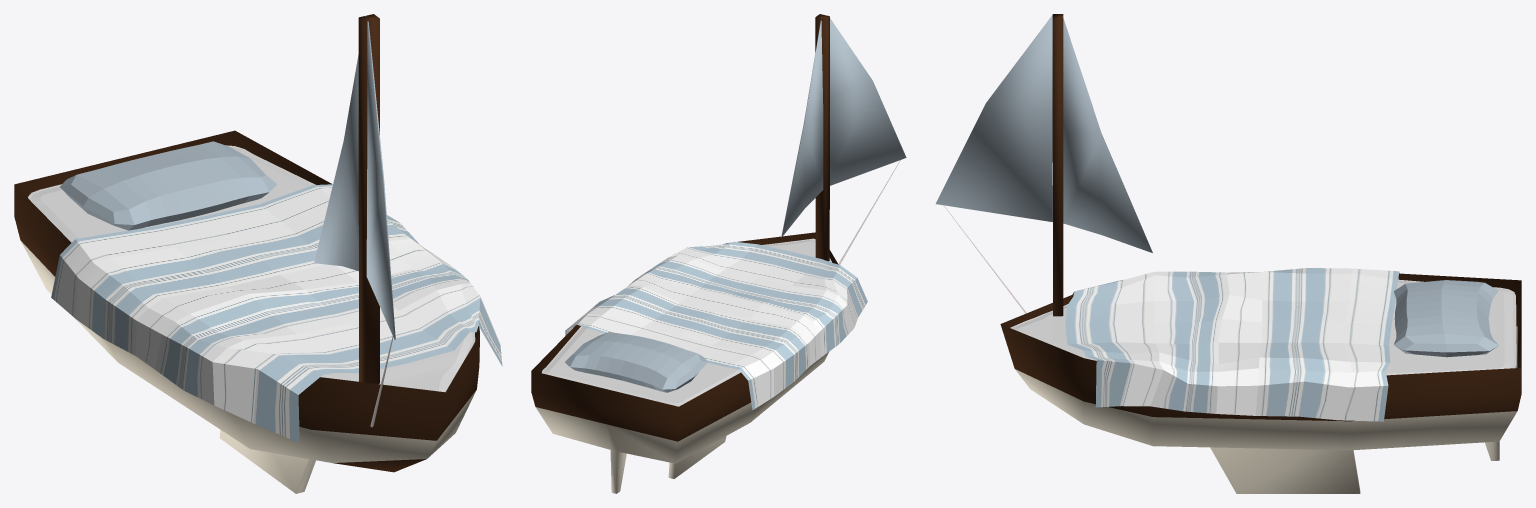
File: krevet_brod.fbx
The picture shows the model from 3 angles, left to right: view 1: azimuth 30°, elevation 25°; view 2: azimuth 150°, elevation 25°; view 3: azimuth 270°, elevation 25°; orthographic projection. The views are drawn at different scales.
Parts seen in each view (by area): view 1: Object001, boat-sail, Object002, boat-sail.001, bed01_two_old_beds.005; view 2: Object001, boat-sail, boat-sail.001, Object002, bed01_two_old_beds.005; view 3: Object001, boat-sail, boat-sail.001, Object002, bed01_two_old_beds.005.
Boxes of the visible parts, x1=… form: Object001: x1=51, y1=184, x2=502, y2=442; boat-sail: x1=14, y1=130, x2=479, y2=493; Object002: x1=28, y1=141, x2=475, y2=392; boat-sail.001: x1=314, y1=15, x2=395, y2=339; bed01_two_old_beds.005: x1=358, y1=14, x2=379, y2=383; Object001: x1=565, y1=241, x2=867, y2=410; boat-sail: x1=531, y1=232, x2=838, y2=493; boat-sail.001: x1=781, y1=15, x2=906, y2=237; Object002: x1=542, y1=238, x2=831, y2=406; bed01_two_old_beds.005: x1=815, y1=14, x2=829, y2=261; Object001: x1=1065, y1=268, x2=1399, y2=421; boat-sail: x1=1000, y1=273, x2=1521, y2=493; boat-sail.001: x1=935, y1=15, x2=1152, y2=252; Object002: x1=1010, y1=279, x2=1516, y2=375; bed01_two_old_beds.005: x1=1052, y1=14, x2=1063, y2=316.
Bounding box in the file's own units: 264 × 477 × 551.
9 materials, 1 textured.
